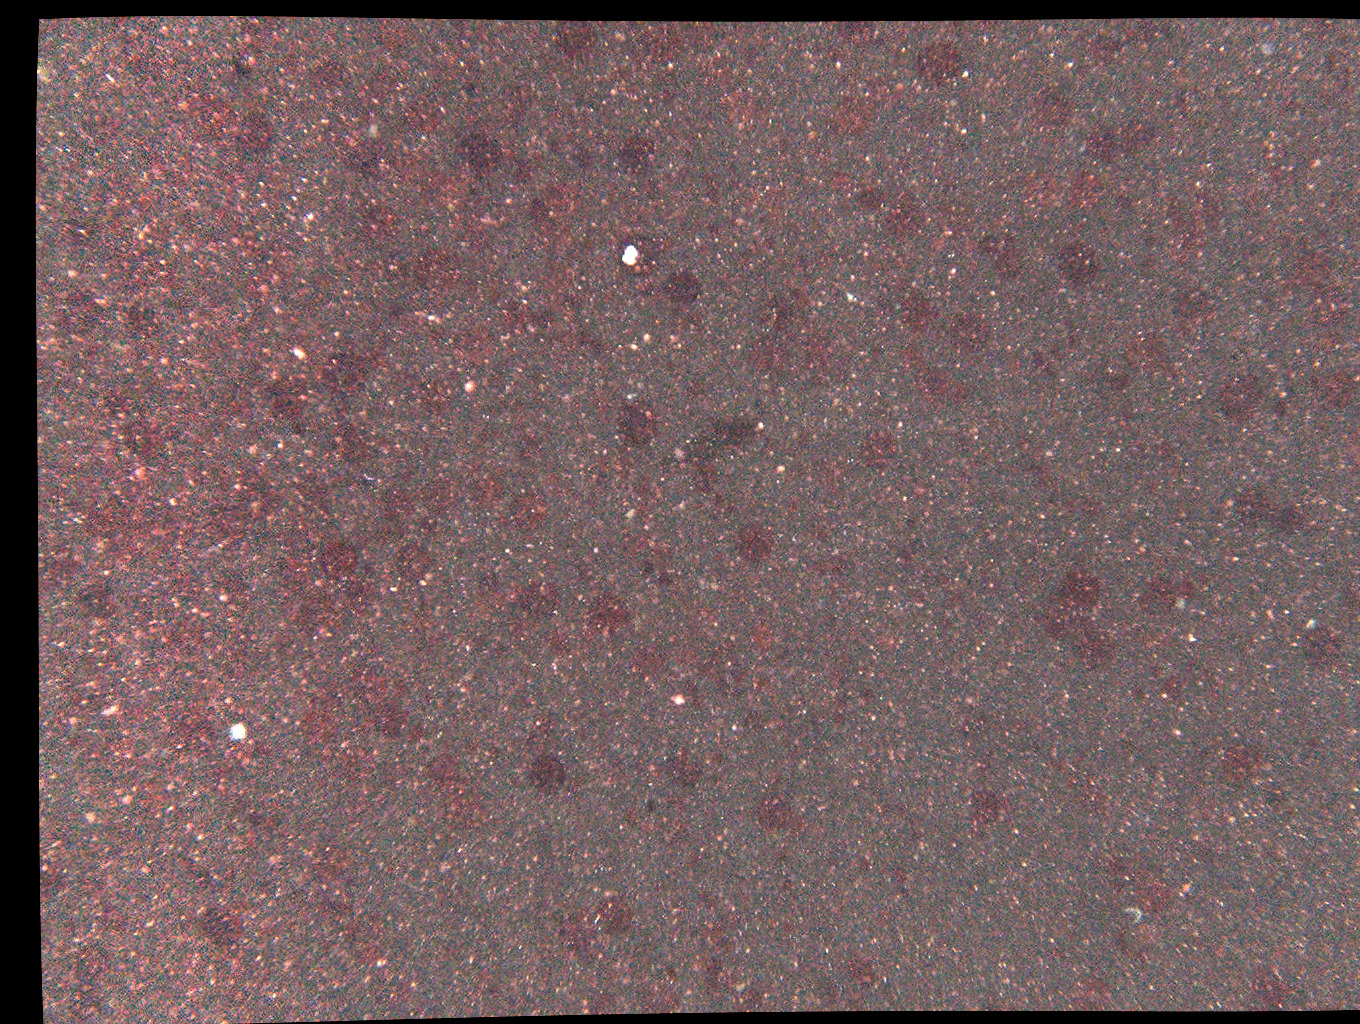Substrate A: (124, 60, 143, 76)
